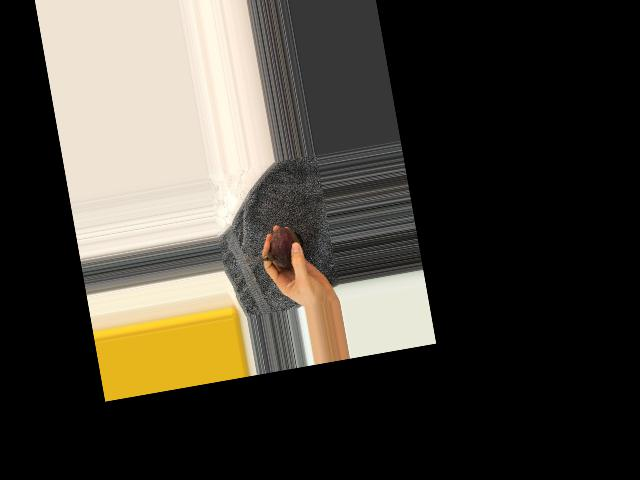beet: (240, 224, 307, 274)
